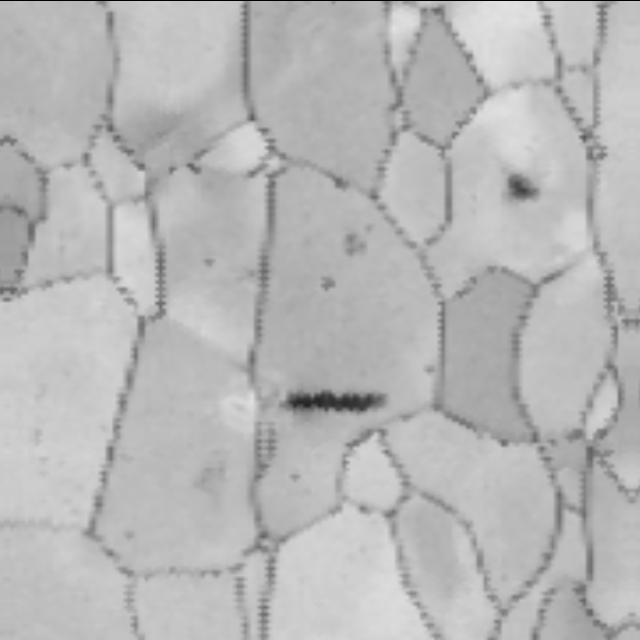good_void: (284, 380, 392, 417), (499, 166, 546, 212), (344, 228, 374, 254), (323, 272, 342, 291), (201, 250, 217, 270), (186, 161, 206, 177), (333, 174, 351, 190), (421, 360, 438, 376), (288, 468, 303, 484)
